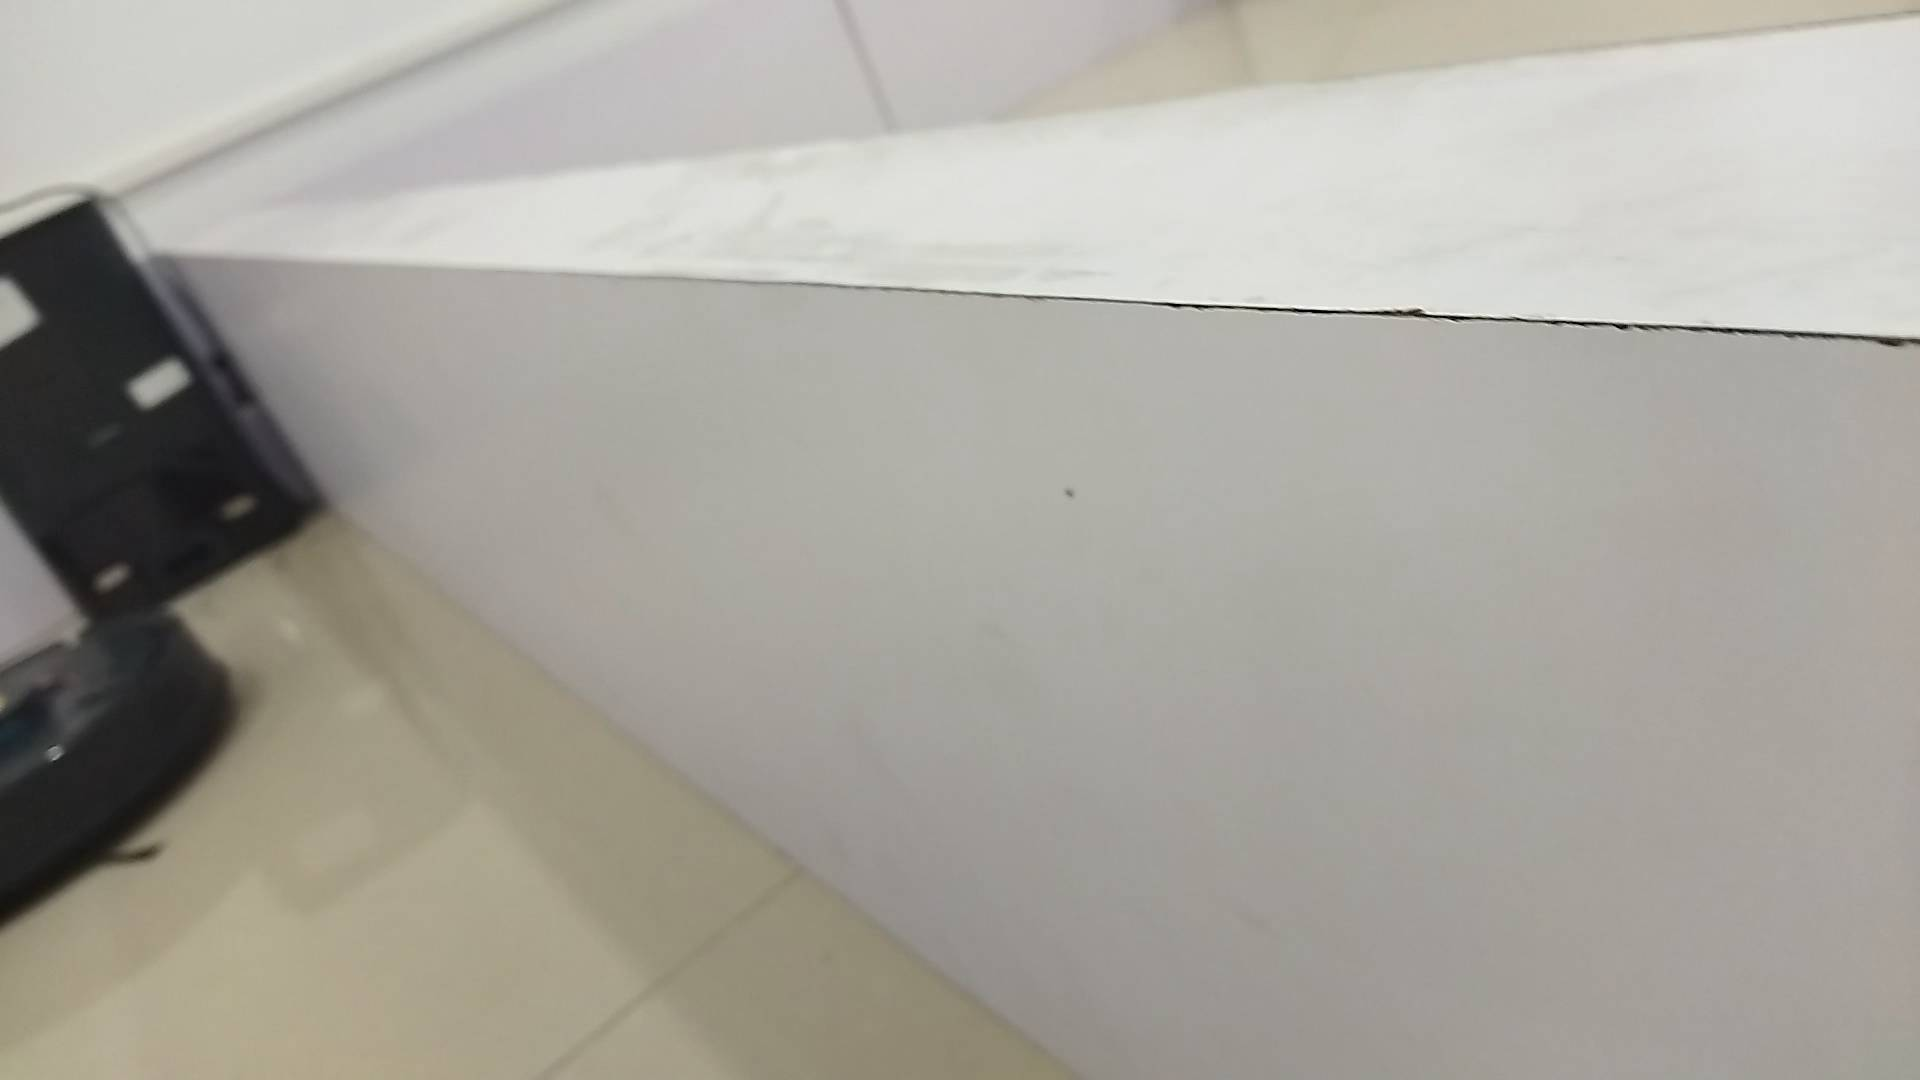dust collecting barrel: (1, 185, 320, 622)
